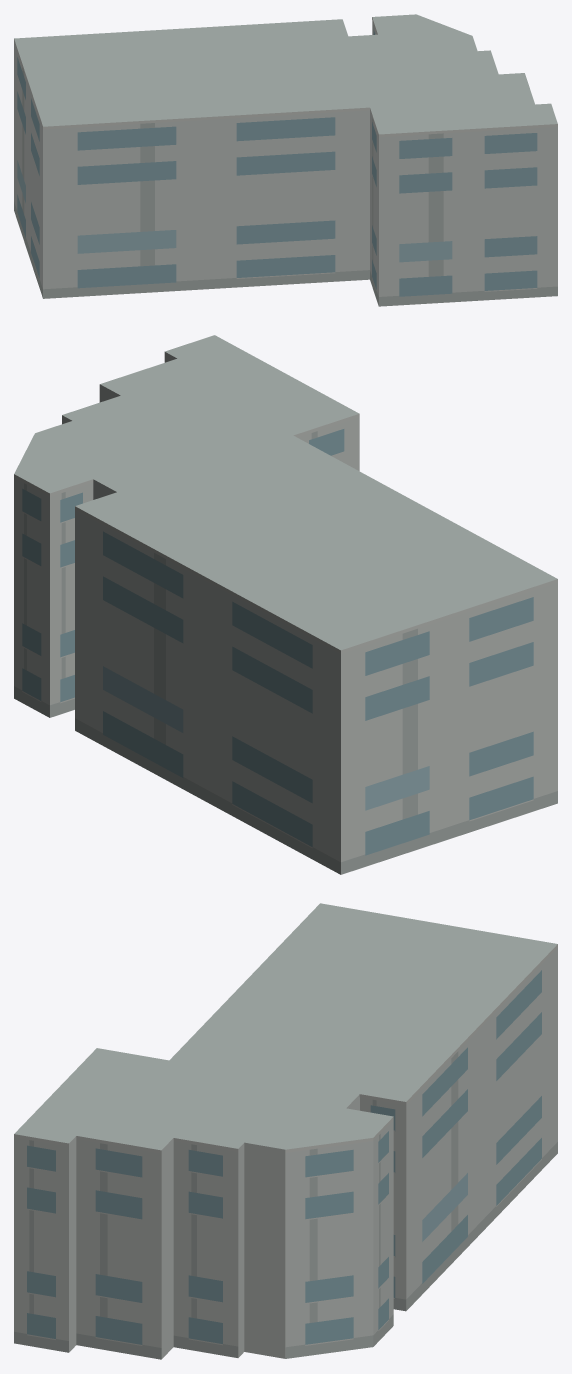
The model's file is residential-9c5bb921-4cac-466e-8ee3-ac2548cfd31b.glb.
3 renders of one model, top to bottom at view 1: azimuth 30°, elevation 25°; view 2: azimuth 150°, elevation 25°; view 3: azimuth 270°, elevation 25°, orthographic. The views are drawn at different scales.
Visible parts, largest first — view 1: residential-9c5bb921-4cac-466e-8ee3-ac2548cfd31b.tmp; view 2: residential-9c5bb921-4cac-466e-8ee3-ac2548cfd31b.tmp; view 3: residential-9c5bb921-4cac-466e-8ee3-ac2548cfd31b.tmp.
Part boxes in pixels (x1=…): residential-9c5bb921-4cac-466e-8ee3-ac2548cfd31b.tmp: x1=14, y1=14, x2=557, y2=306; residential-9c5bb921-4cac-466e-8ee3-ac2548cfd31b.tmp: x1=14, y1=335, x2=557, y2=874; residential-9c5bb921-4cac-466e-8ee3-ac2548cfd31b.tmp: x1=14, y1=903, x2=557, y2=1359.
Bounding box in the file's own units: 38.63 × 15.25 × 35.92.
